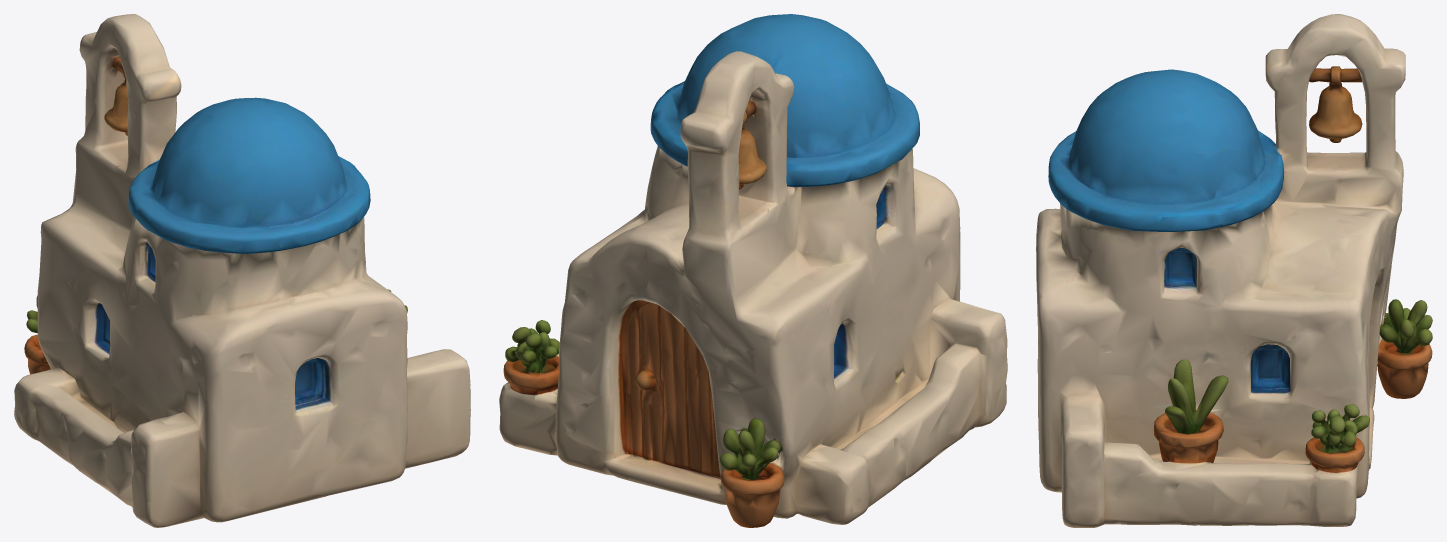
Rendered from chapel.glb.
The picture shows the model from 3 angles, left to right: view 1: azimuth 30°, elevation 25°; view 2: azimuth 150°, elevation 25°; view 3: azimuth 270°, elevation 25°; orthographic projection. The views are drawn at different scales.
Visible parts, largest first — view 1: tripo_node_58b60a0d-0fba-4e51-875d-85e283824e66; view 2: tripo_node_58b60a0d-0fba-4e51-875d-85e283824e66; view 3: tripo_node_58b60a0d-0fba-4e51-875d-85e283824e66.
Part boxes in pixels (x1,y1,x2,y2): tripo_node_58b60a0d-0fba-4e51-875d-85e283824e66: (14,14,470,527); tripo_node_58b60a0d-0fba-4e51-875d-85e283824e66: (499,14,1007,527); tripo_node_58b60a0d-0fba-4e51-875d-85e283824e66: (1036,14,1432,527).
Size of the model in its own units: 0.8696 by 0.9996 by 0.8837.
Materials: 1 (1 with a texture image).
